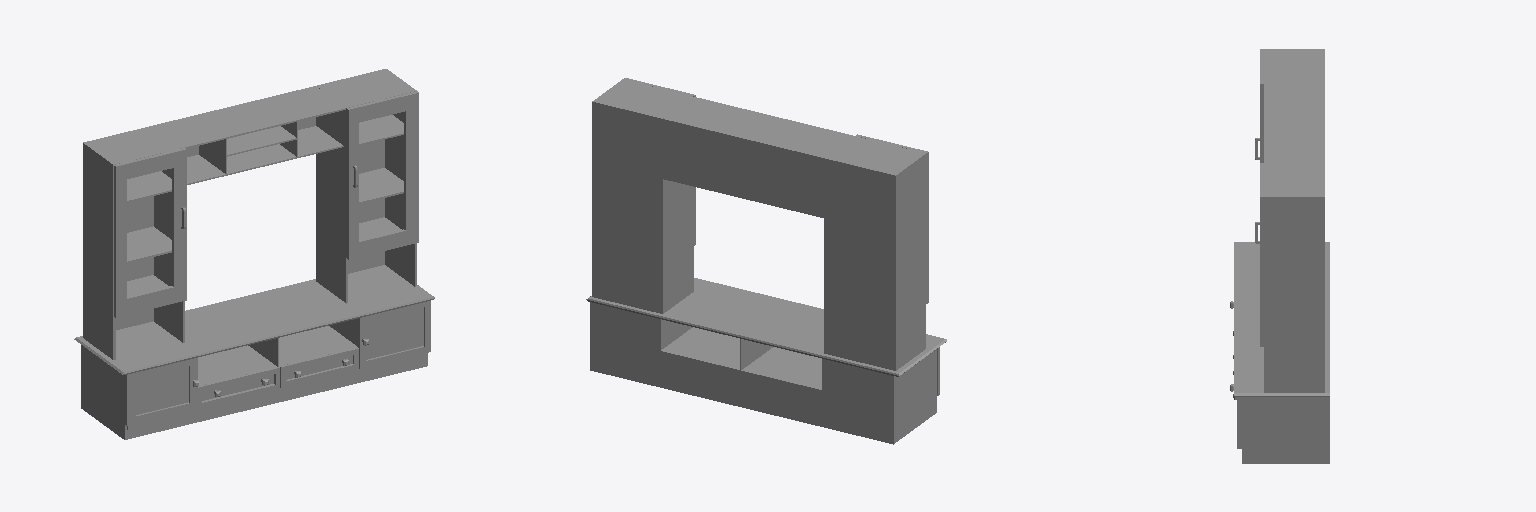
The model's file is royaloka_tvset.obj.
The picture shows the model from 3 angles: view 1: azimuth 30°, elevation 25°; view 2: azimuth 150°, elevation 25°; view 3: azimuth 270°, elevation 25°; orthographic projection.
Visible parts, largest first — view 1: Cube.001, Cube.006_Cube.008, Cube.007_Cube.009, Cube.002_Cube.003, Cube.003_Cube.004, Cube.004_Cube.005, Cube.005_Cube.006; view 2: Cube.001, Cube.006_Cube.008; view 3: Cube.001, Cube.007_Cube.009.
Part boxes in pixels (bbox=[...]): Cube.001: bbox=[74, 69, 434, 439]; Cube.006_Cube.008: bbox=[114, 148, 186, 317]; Cube.007_Cube.009: bbox=[346, 91, 418, 259]; Cube.002_Cube.003: bbox=[125, 358, 197, 425]; Cube.003_Cube.004: bbox=[357, 301, 430, 368]; Cube.004_Cube.005: bbox=[198, 367, 279, 407]; Cube.005_Cube.006: bbox=[279, 347, 358, 387]; Cube.001: bbox=[586, 79, 946, 444]; Cube.006_Cube.008: bbox=[856, 134, 928, 303]; Cube.001: bbox=[1234, 49, 1329, 463]; Cube.007_Cube.009: bbox=[1260, 163, 1263, 346].
Size of the model in its own units: 82.3 by 67.04 by 22.92.